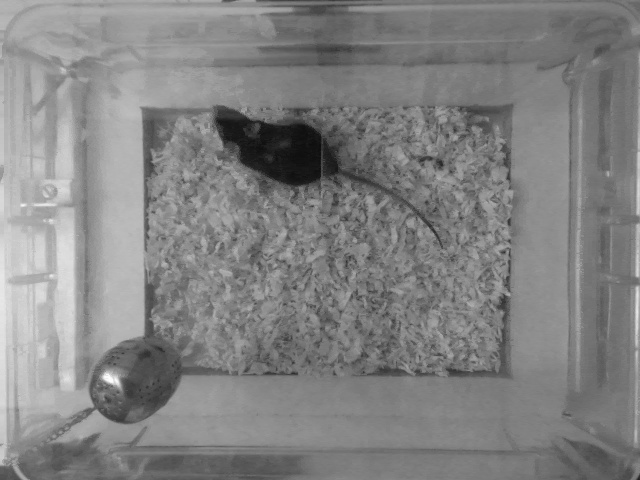mice: (206, 98, 455, 255)
